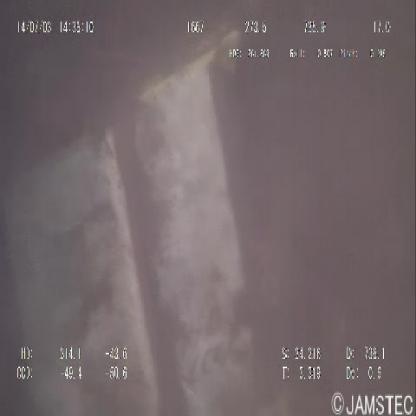Rác: (5, 29, 284, 416)
